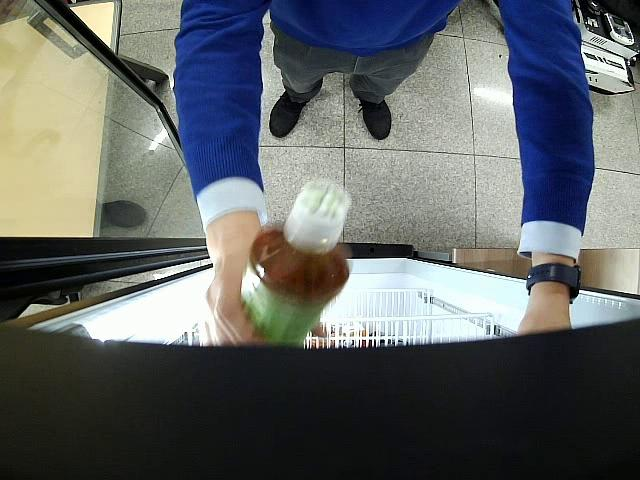00_hand: (203, 211, 263, 344)
19_17cha: (241, 175, 356, 344)
